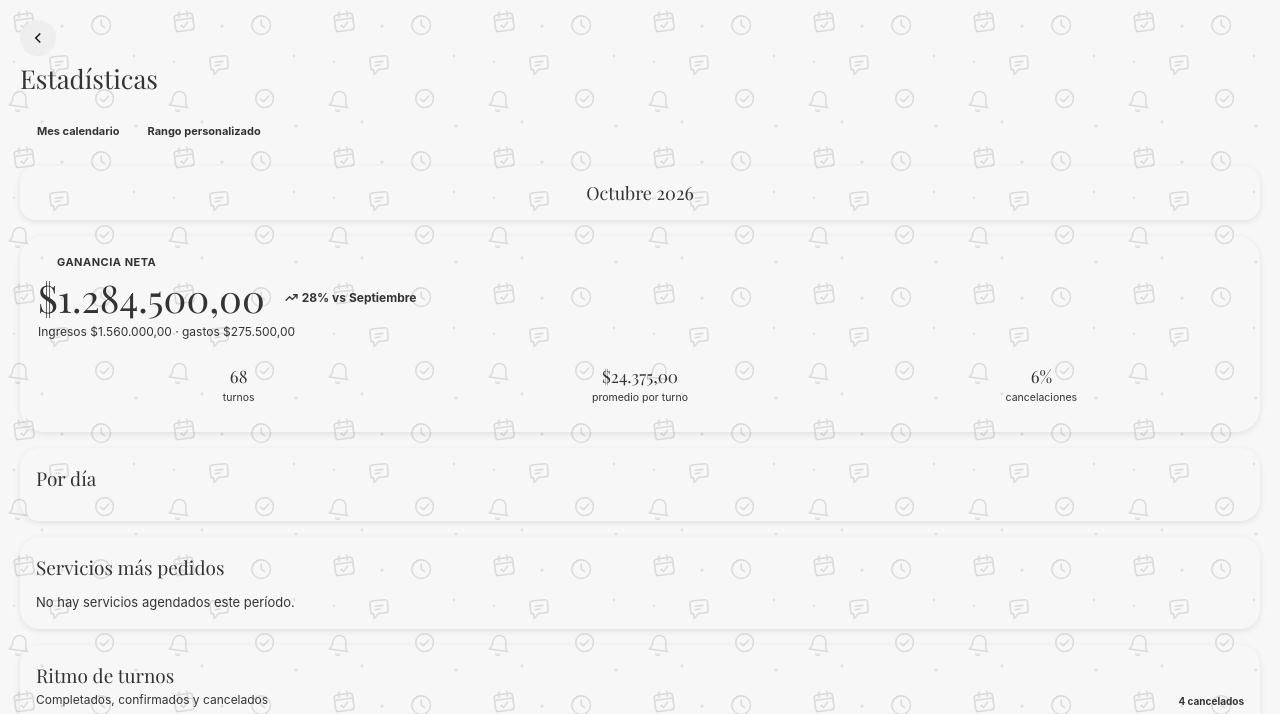
Test: Estadísticas — héroe › en rango personalizado no hay comparación con el mes anterior
Check: the text "28% vs Septiembre" is shown, box [285,290,416,305]
Step 1. Click the button "Rango personalizado" → (204, 131), box [134,115,275,147]
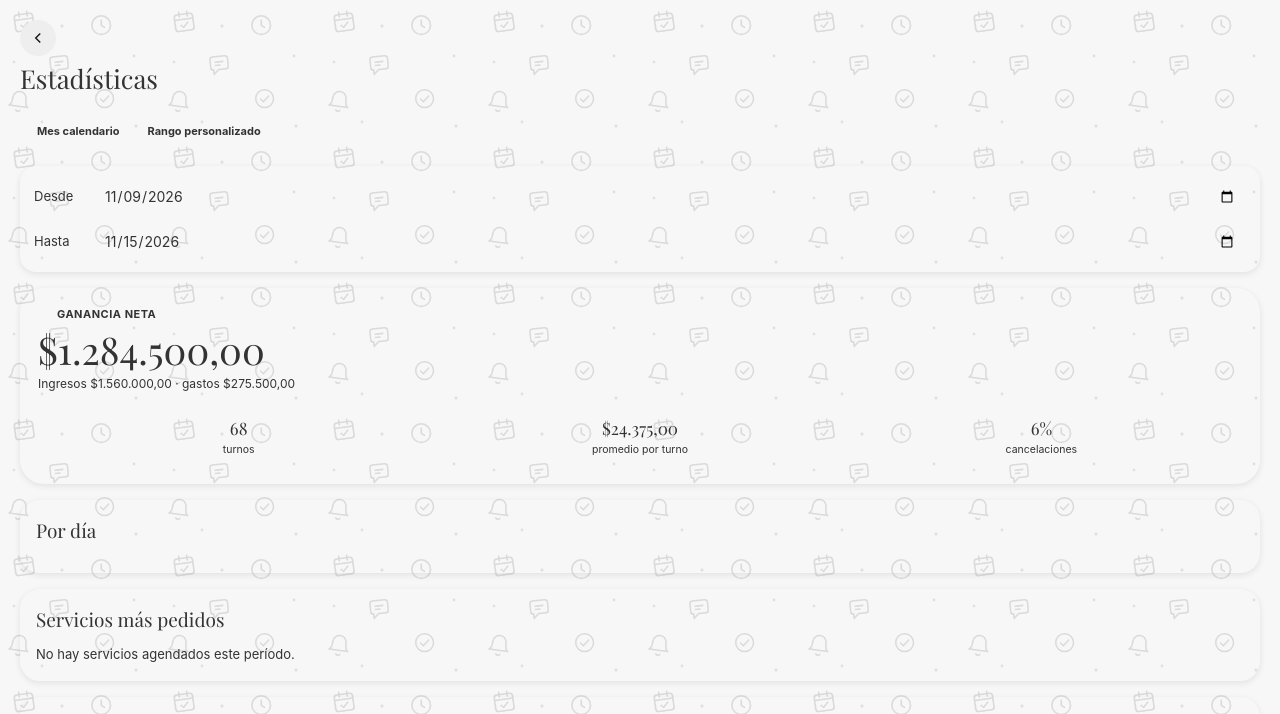
Check: the text "vs Septiembre" is gone
